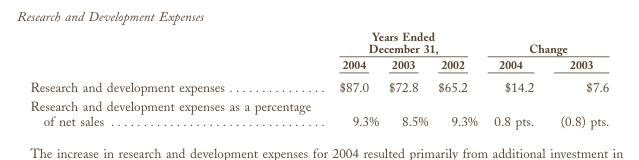table: (29, 29, 608, 128)
table column: (29, 29, 331, 128), (546, 29, 608, 128), (485, 29, 546, 128), (432, 29, 485, 128), (331, 29, 382, 128), (382, 29, 432, 128)
table column header: (29, 29, 608, 75)
table row: (29, 96, 608, 128), (29, 29, 608, 55), (29, 75, 608, 96), (29, 55, 608, 75)
table spanning cell: (331, 29, 485, 55), (485, 29, 608, 55)
